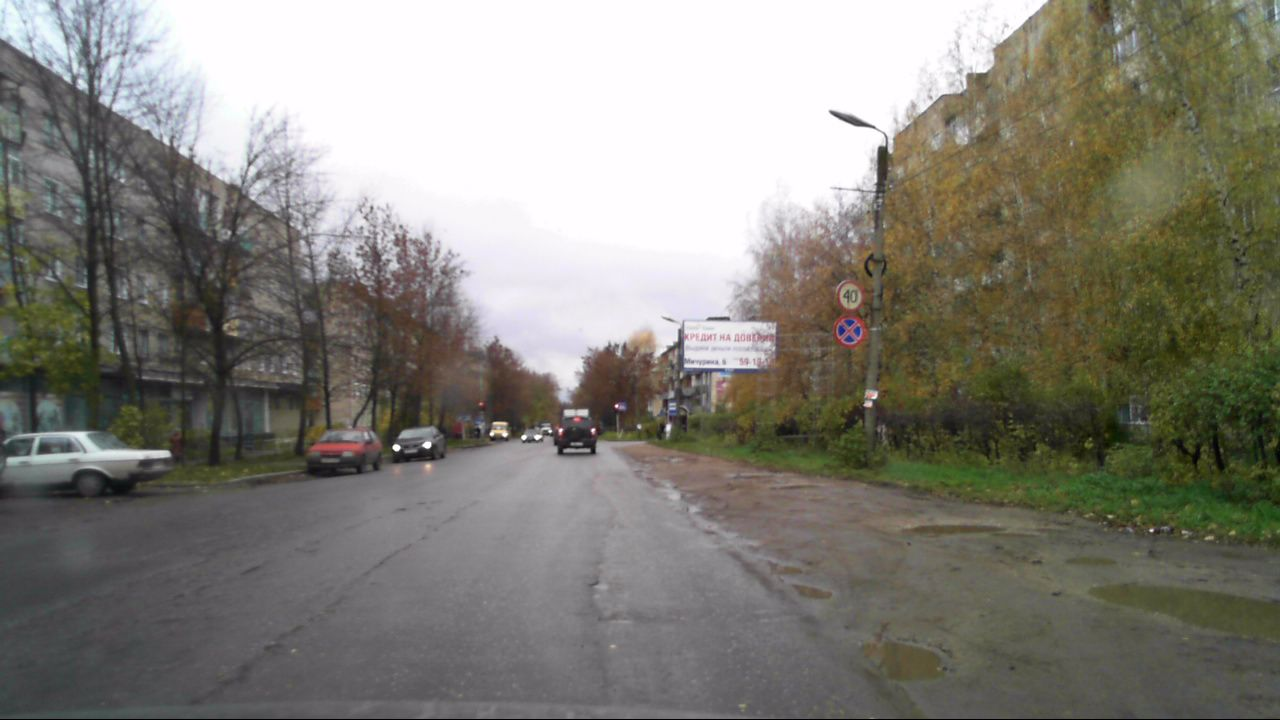No Parking: (832, 311, 868, 348)
speed_warning_40: (834, 278, 865, 312)
